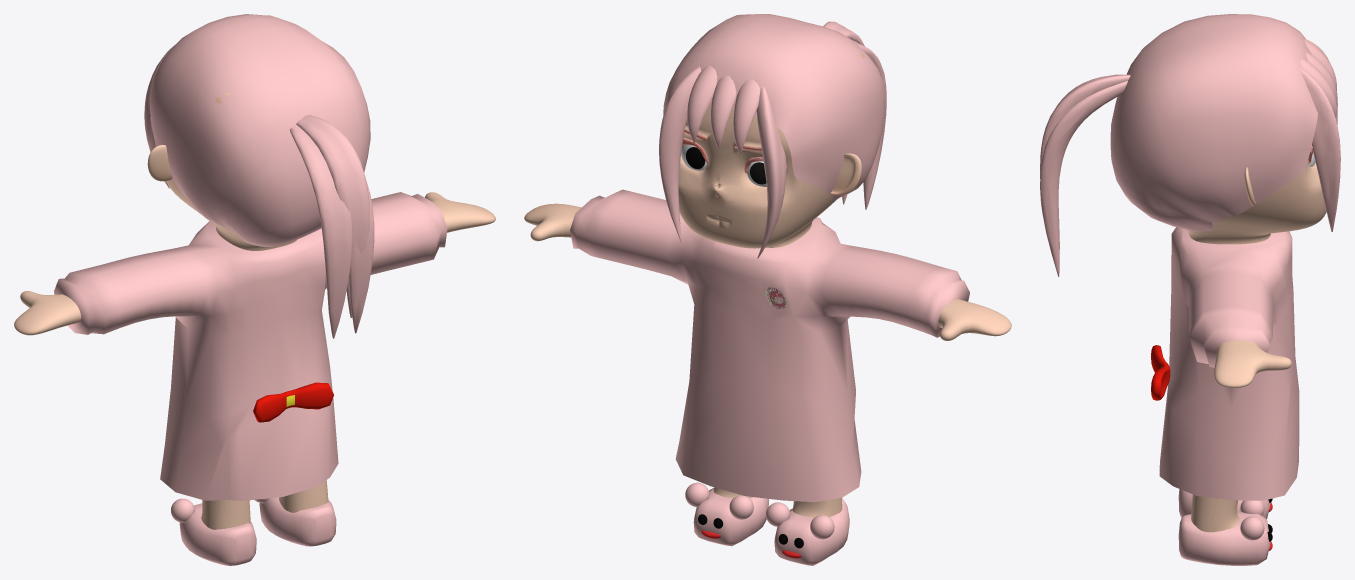
The model's file is Chibi.glb.
3 views of the same model, side by side, from view 1: azimuth 30°, elevation 25°; view 2: azimuth 150°, elevation 25°; view 3: azimuth 270°, elevation 25° (orthographic).
Parts seen in each view (by area): view 1: Cube.002, Plane, Cube, NurbsPath, NurbsPath.006, Cube.006, Cube.005, Cube.007, NurbsPath.005, Plane.001; view 2: Cube.002, Plane, Cube, NurbsPath.004, NurbsPath.003, Cube.006, Cube.005, NurbsPath.002, NurbsPath.001, NurbsPath.007, NurbsPath, Plane.001; view 3: Plane, Cube.002, Cube, NurbsPath.005, Cube.005, NurbsPath.004, NurbsPath.006, Cube.007, NurbsPath.002, Cube.006, Sphere.002.
Part boxes in pixels (left/top/right/bottom): Cube.002: left=54, top=192, right=447, bottom=500; Plane: left=149, top=14, right=370, bottom=246; Cube: left=14, top=93, right=495, bottom=529; NurbsPath: left=289, top=125, right=352, bottom=338; NurbsPath.006: left=296, top=115, right=369, bottom=317; Cube.006: left=179, top=503, right=256, bottom=565; Cube.005: left=259, top=497, right=336, bottom=546; Cube.007: left=253, top=382, right=333, bottom=422; NurbsPath.005: left=349, top=182, right=374, bottom=333; Plane.001: left=147, top=145, right=172, bottom=181; Cube.002: left=570, top=189, right=969, bottom=502; Plane: left=663, top=14, right=884, bottom=200; Cube: left=524, top=46, right=1011, bottom=517; NurbsPath.004: left=659, top=66, right=700, bottom=242; NurbsPath.003: left=756, top=86, right=786, bottom=258; Cube.006: left=774, top=498, right=849, bottom=565; Cube.005: left=693, top=488, right=768, bottom=546; NurbsPath.002: left=687, top=66, right=717, bottom=143; NurbsPath.001: left=733, top=79, right=760, bottom=154; NurbsPath.007: left=710, top=75, right=736, bottom=149; NurbsPath: left=853, top=40, right=886, bottom=209; Plane.001: left=830, top=153, right=861, bottom=195; Plane: left=1110, top=14, right=1317, bottom=231; Cube.002: left=1159, top=227, right=1299, bottom=500; Cube: left=1185, top=78, right=1326, bottom=532; NurbsPath.005: left=1040, top=81, right=1127, bottom=276; Cube.005: left=1178, top=511, right=1270, bottom=565; NurbsPath.004: left=1300, top=68, right=1340, bottom=231; NurbsPath.006: left=1040, top=74, right=1130, bottom=246; Cube.007: left=1151, top=345, right=1170, bottom=400; NurbsPath.002: left=1300, top=58, right=1336, bottom=117; Cube.006: left=1178, top=489, right=1270, bottom=518; Sphere.002: left=1240, top=516, right=1264, bottom=540.
Bounding box in the file's own units: 7.23 × 7.44 × 3.97.
Materials: 13 (3 with a texture image).
